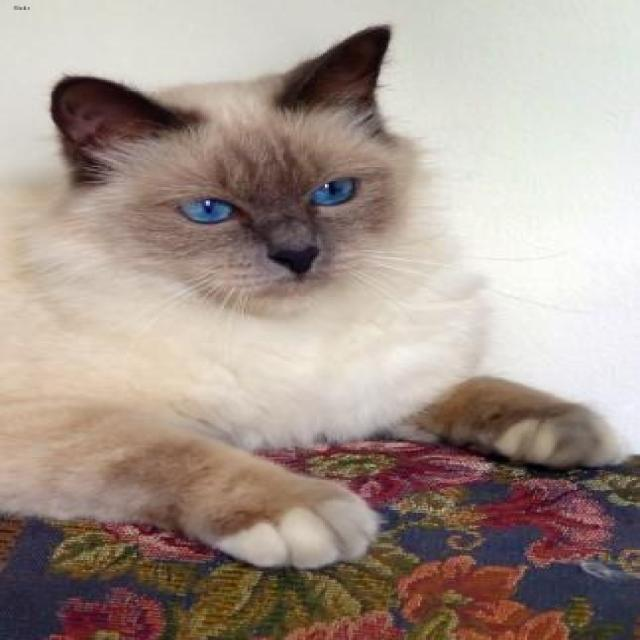Birman: (31, 22, 431, 320)
